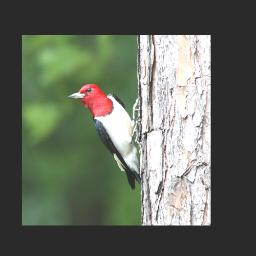Woodpecker: (65, 83, 145, 189)
